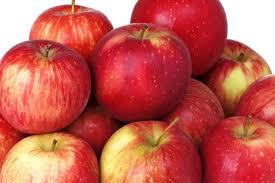apple: (194, 114, 275, 183)
